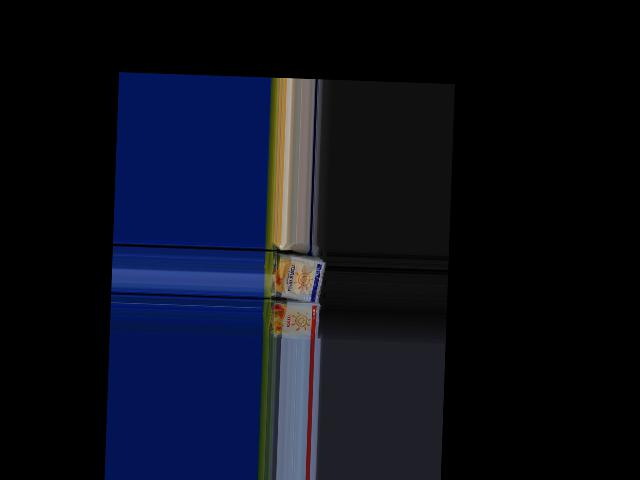cheese: (261, 300, 323, 341)
